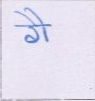e_matra: (13, 8, 46, 24)
